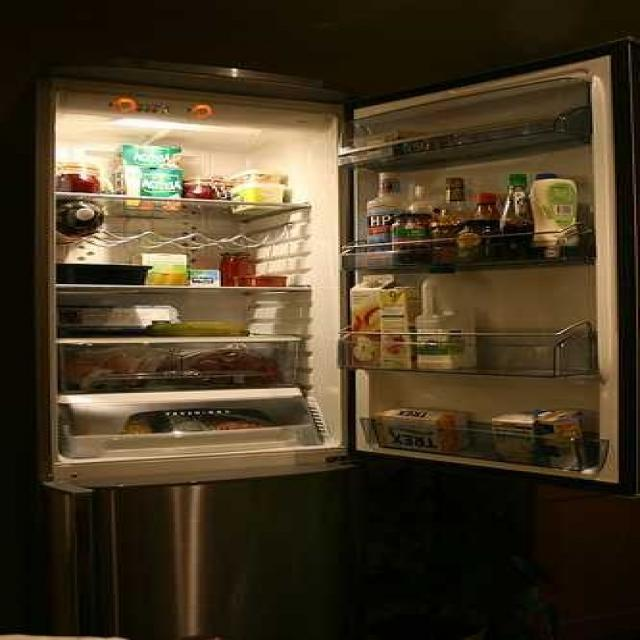refrigerator: (40, 88, 629, 470)
